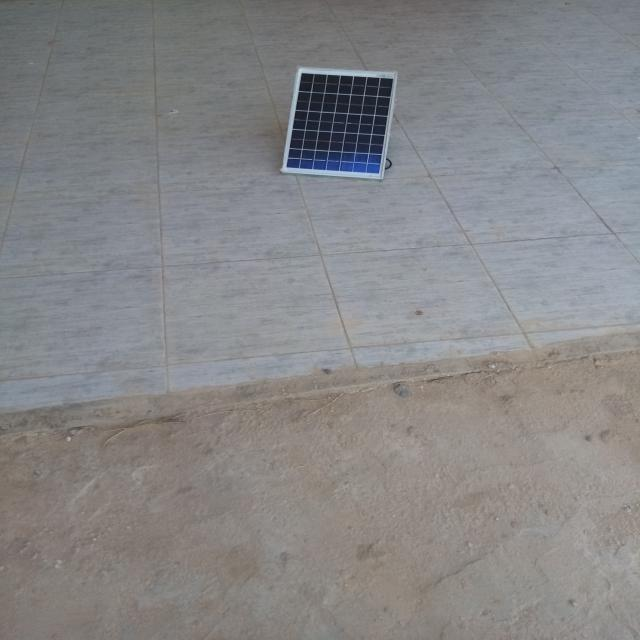no faulty: (283, 67, 398, 180)
